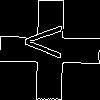V: (25, 25, 71, 59)
